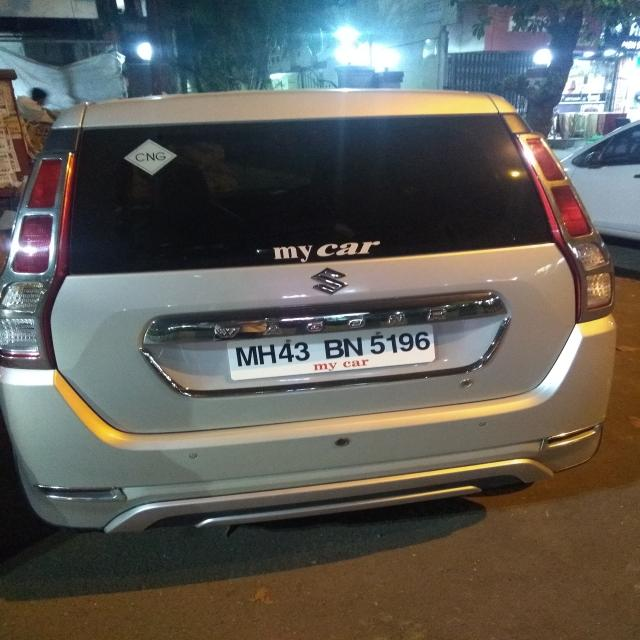Number-Plate: (232, 326, 436, 374)
